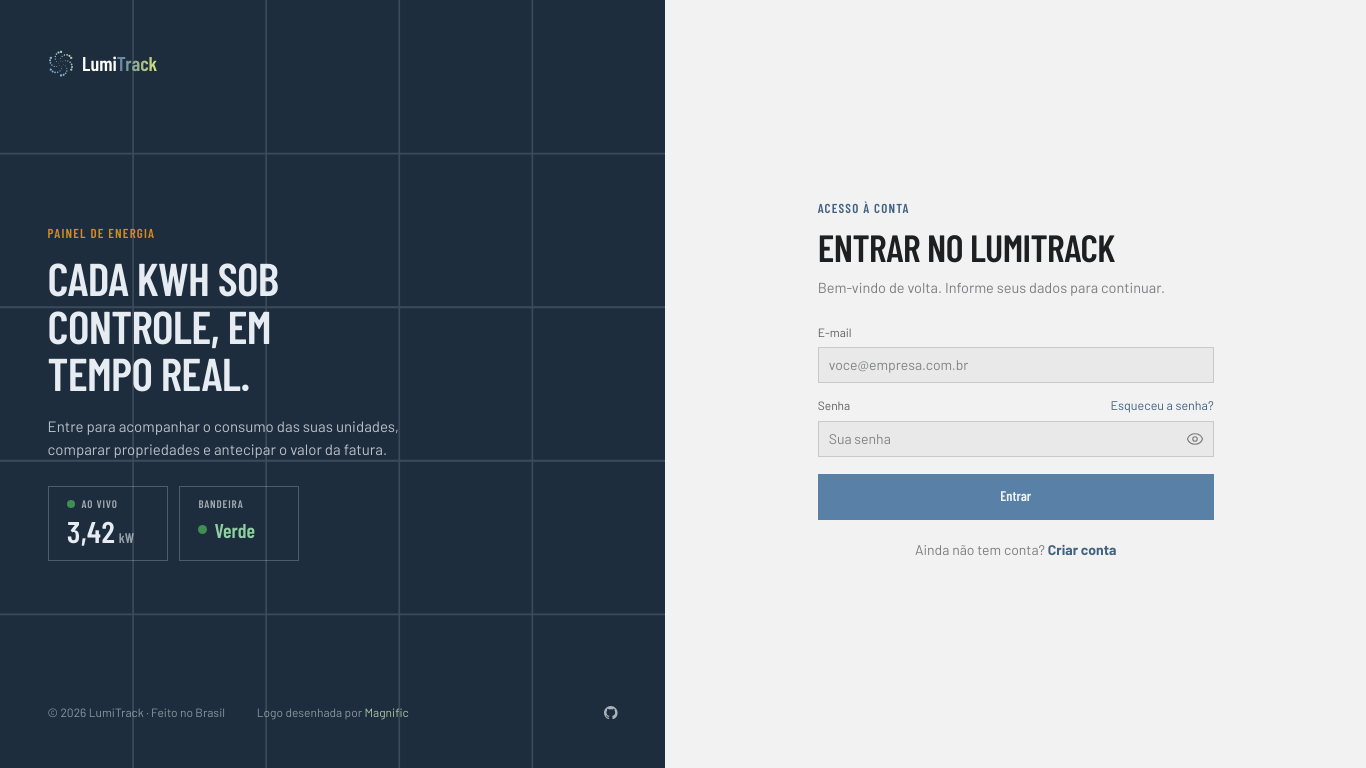
Test: LoginPage — submit › exibe a mensagem de erro do servidor quando login falha
In the field labelled "E-mail": (1016, 365) [818,347,1214,383], type "test@example.com"
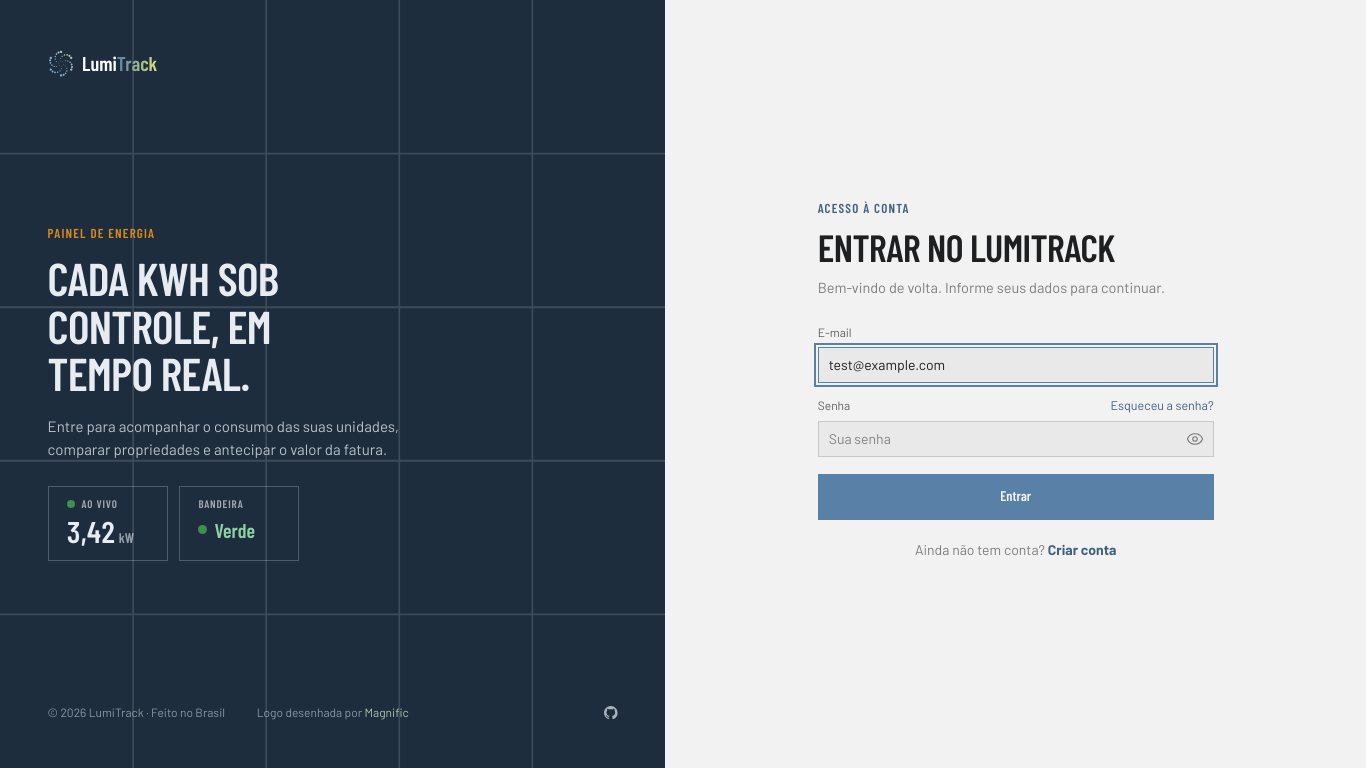
In the password field labelled "Senha": (1016, 439) [818,421,1214,457], type "errada"
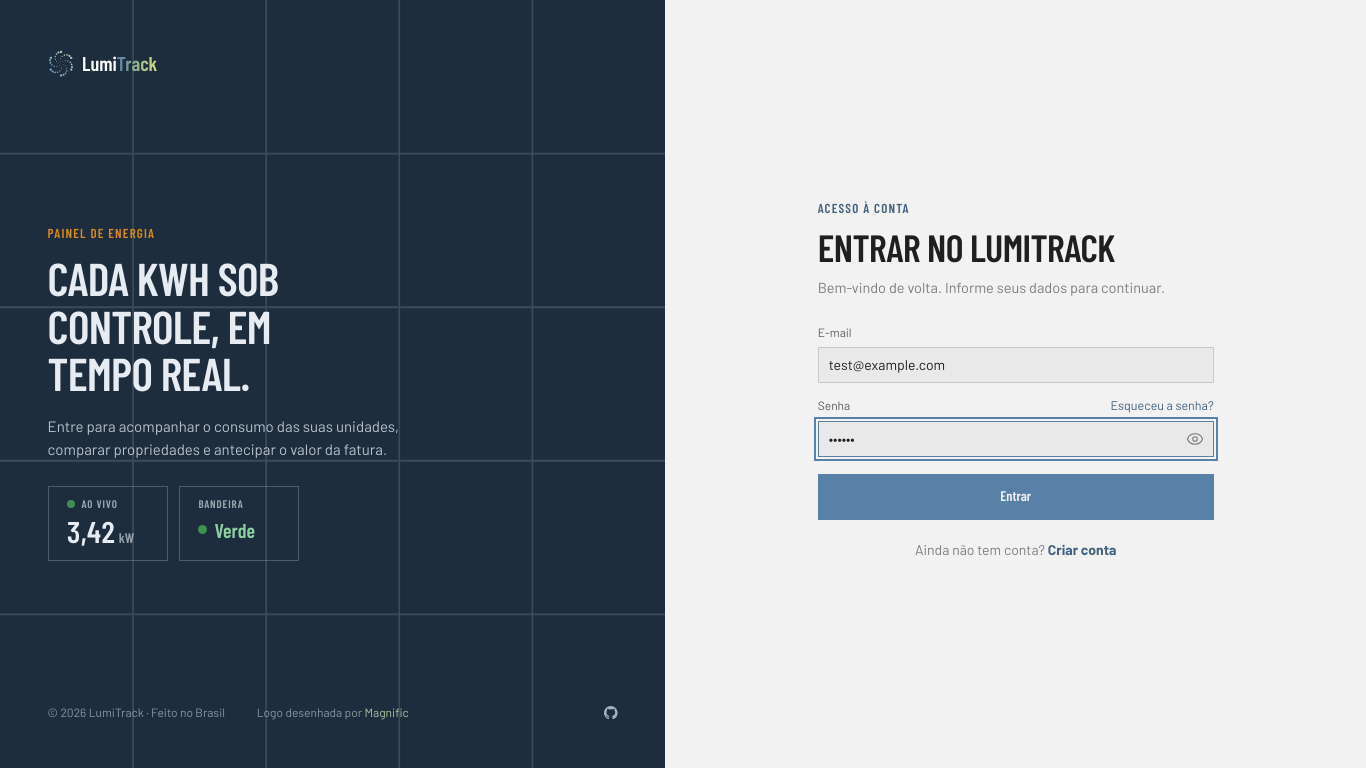
Click the button "Entrar": click(1016, 497) [818,474,1214,520]
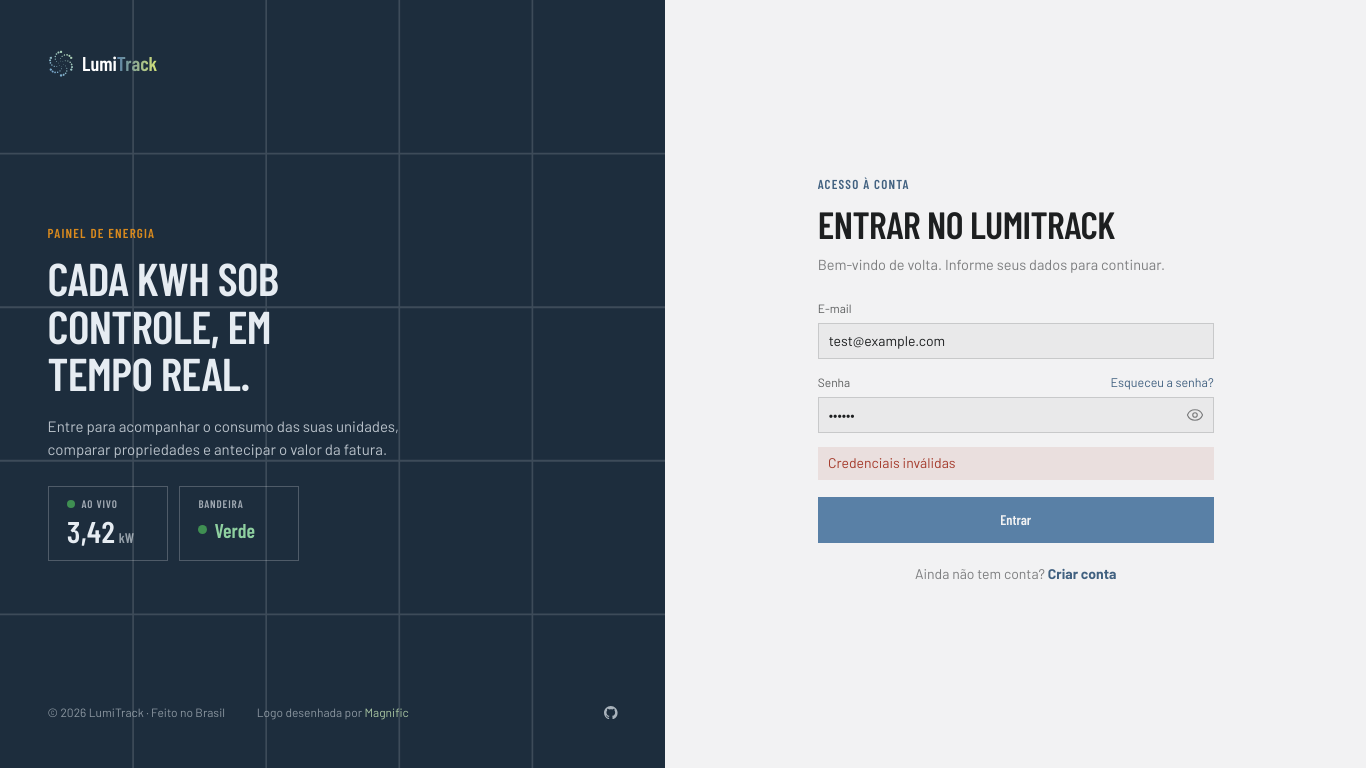
Result: the text "Credenciais inválidas" is shown at [818,447,1214,480]
